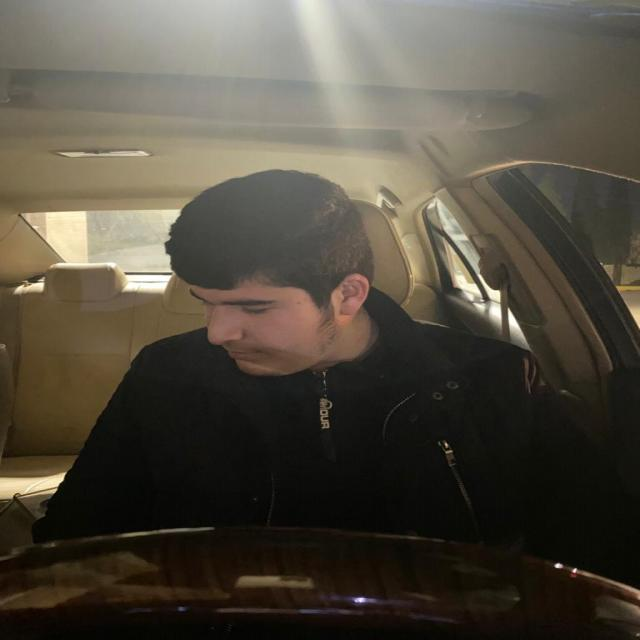drowsy: (163, 170, 383, 379)
